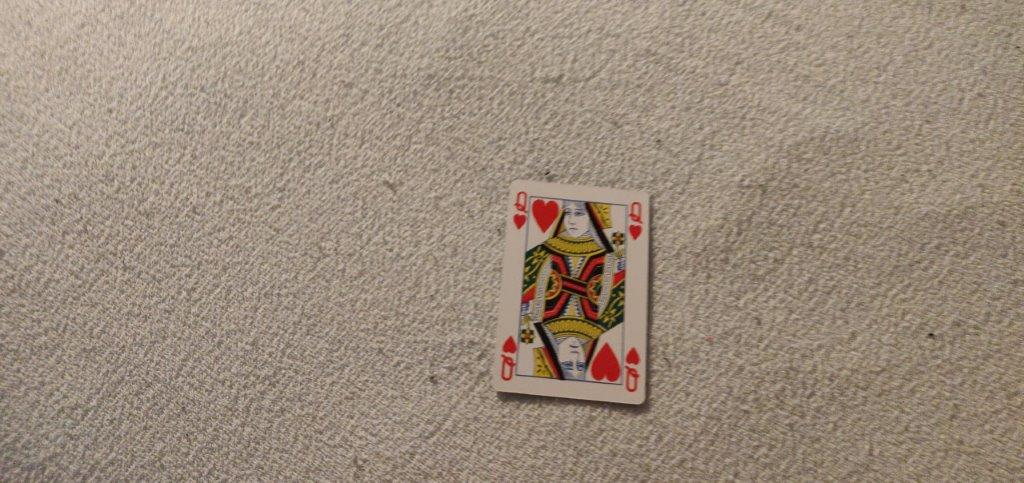QH: (627, 199, 647, 241), (512, 190, 530, 235)
